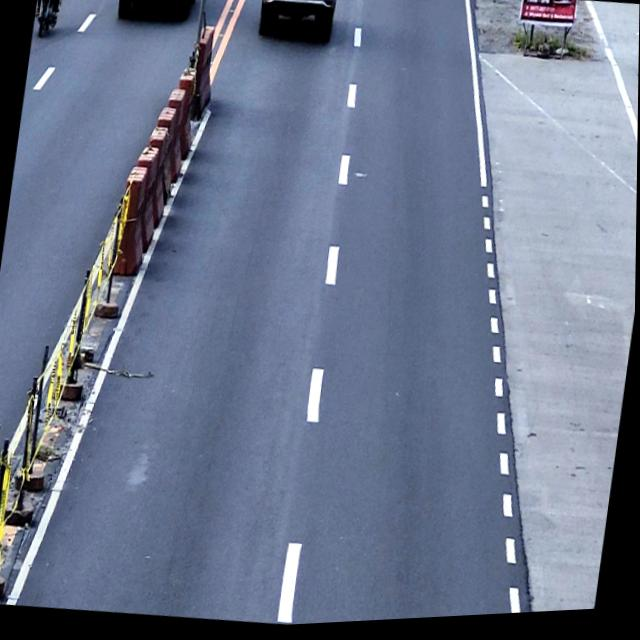Car: (255, 0, 338, 46), (114, 0, 198, 27)
Motorcycle: (32, 0, 67, 41)
